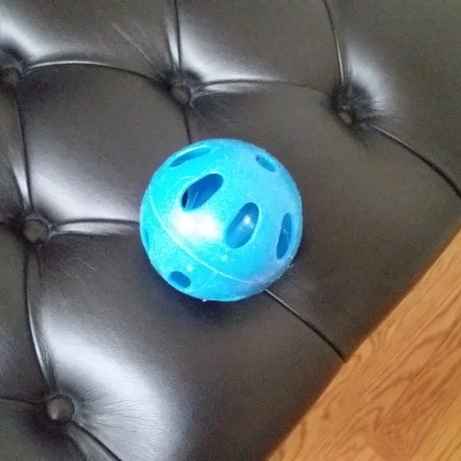blueball: (134, 130, 311, 310)
